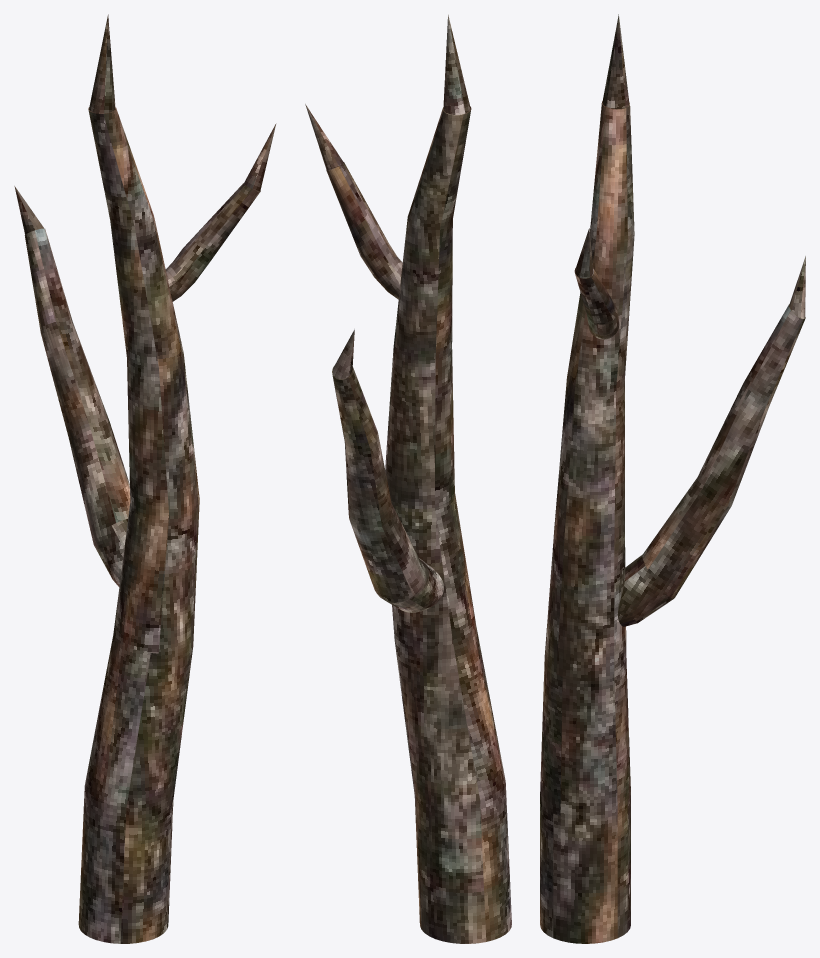
Rendered from tree_type0.glb.
3 renders of one model, left to right at view 1: azimuth 30°, elevation 25°; view 2: azimuth 150°, elevation 25°; view 3: azimuth 270°, elevation 25°, orthographic. The views are drawn at different scales.
Parts seen in each view (by area): view 1: Cube; view 2: Cube; view 3: Cube.
Boxes of the visible parts, x1,y1,x2,y2 form: Cube: (14,14,276,943); Cube: (305,14,511,943); Cube: (540,14,805,943).
Size of the model in its own units: 34.6 by 154 by 40.55.
Materials: 1 (1 with a texture image).
